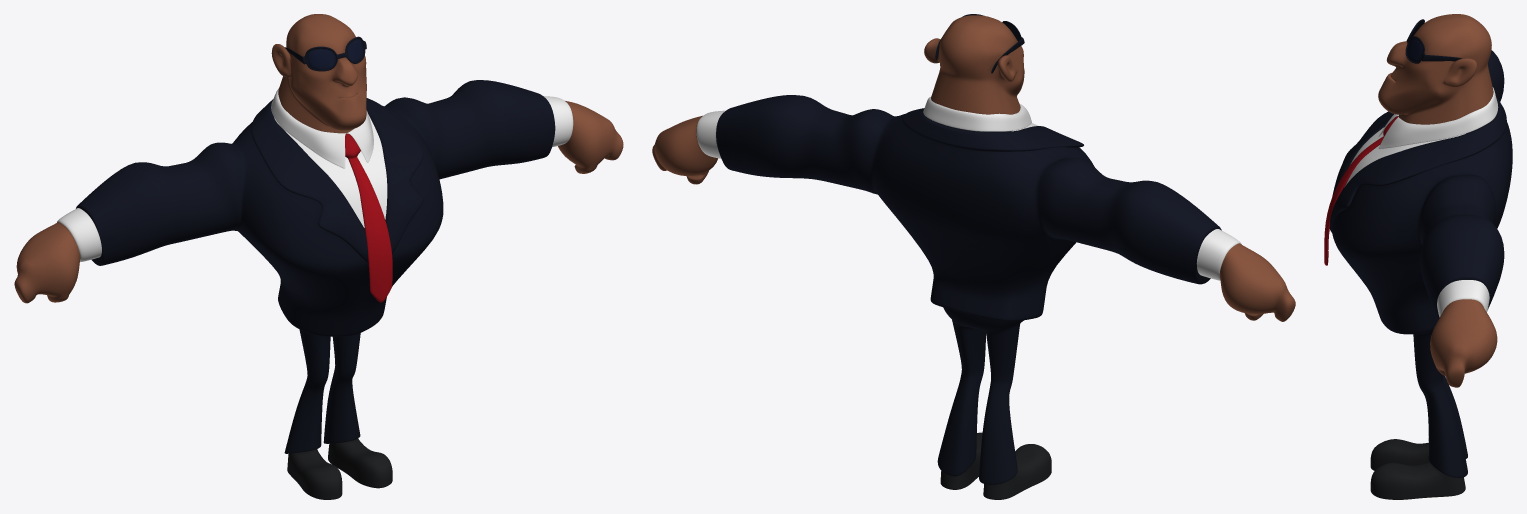
Rendered from Bodyguard02_Textured.fbx.
3 renders of one model, left to right at view 1: azimuth 30°, elevation 25°; view 2: azimuth 150°, elevation 25°; view 3: azimuth 270°, elevation 25°, orthographic. The views are drawn at different scales.
Parts seen in each view (by area): view 1: Bodyguard; view 2: Bodyguard; view 3: Bodyguard.
Part boxes in pixels (x1,y1,x2,y2): Bodyguard: (14,14,623,499); Bodyguard: (652,14,1295,499); Bodyguard: (1324,14,1512,499).
Size of the model in its own units: 981 by 691 by 256.
Materials: 7 (7 with a texture image).
